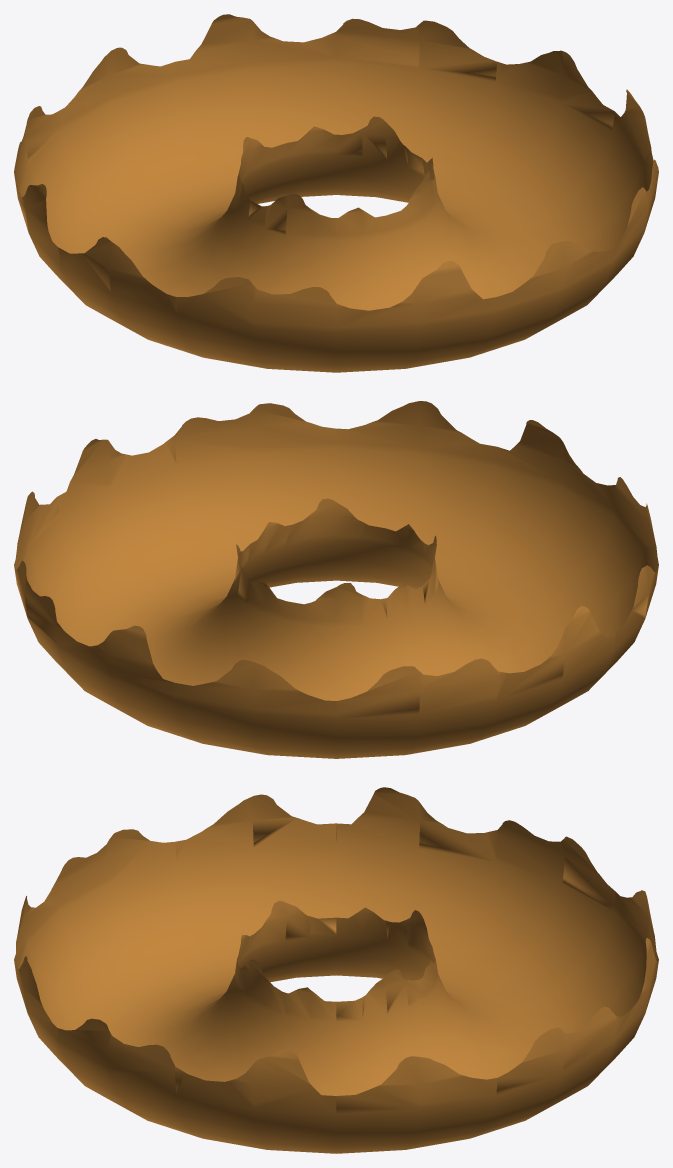
Rendered from donut2_bread_v2.dae.
3 renders of one model, top to bottom at view 1: azimuth 30°, elevation 25°; view 2: azimuth 150°, elevation 25°; view 3: azimuth 270°, elevation 25°, orthographic.
Parts seen in each view (by area): view 1: group_0_002; view 2: group_0_002; view 3: group_0_002.
Boxes of the visible parts, bbox=[...] form: group_0_002: bbox=[14, 14, 658, 372]; group_0_002: bbox=[14, 401, 658, 758]; group_0_002: bbox=[14, 787, 658, 1153].
Size of the model in its own units: 0.1275 by 0.1275 by 0.0298.
